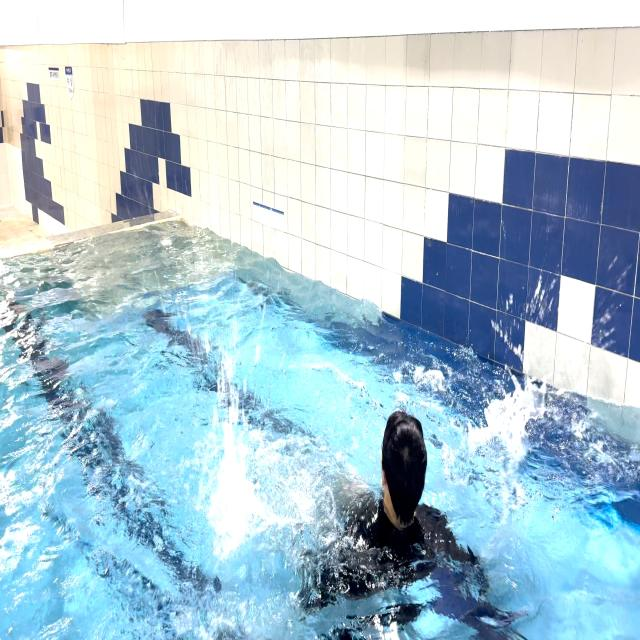Swimming: (199, 336, 552, 626)
